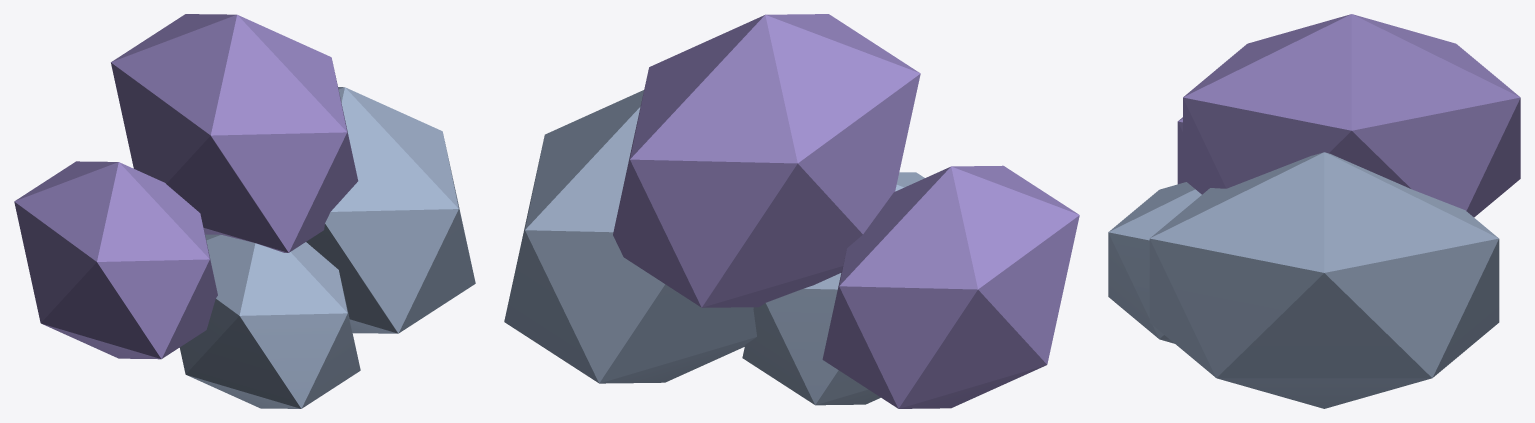
Rendered from puff.glb.
The picture shows the model from 3 angles, left to right: view 1: azimuth 30°, elevation 25°; view 2: azimuth 150°, elevation 25°; view 3: azimuth 270°, elevation 25°; orthographic projection. The views are drawn at different scales.
Parts seen in each view (by area): view 1: root_mesh; view 2: root_mesh; view 3: root_mesh.
Part boxes in pixels (bbox=[...]): root_mesh: bbox=[14, 14, 475, 408]; root_mesh: bbox=[504, 14, 1079, 408]; root_mesh: bbox=[1108, 14, 1520, 408].
Size of the model in its own units: 1.5 by 1.23 by 1.27.
